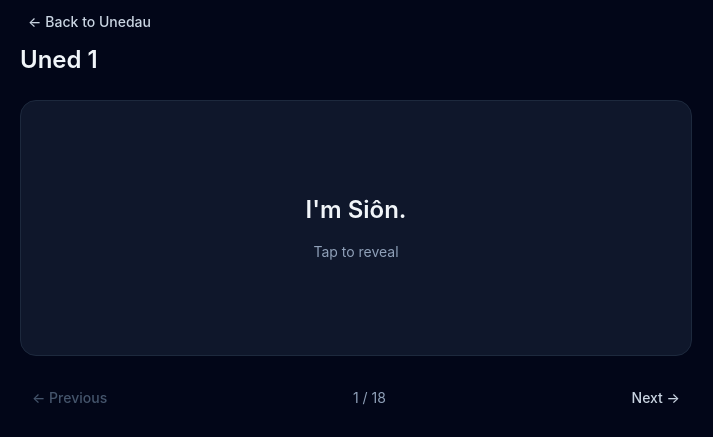
Test: Next moves to the next card and resets reveal; Previous moves back
The width and height of the screenshot is (713, 437).
Click the button "I'm Siôn. Tap to reveal". click: (356, 228)
box: [20, 100, 692, 356]
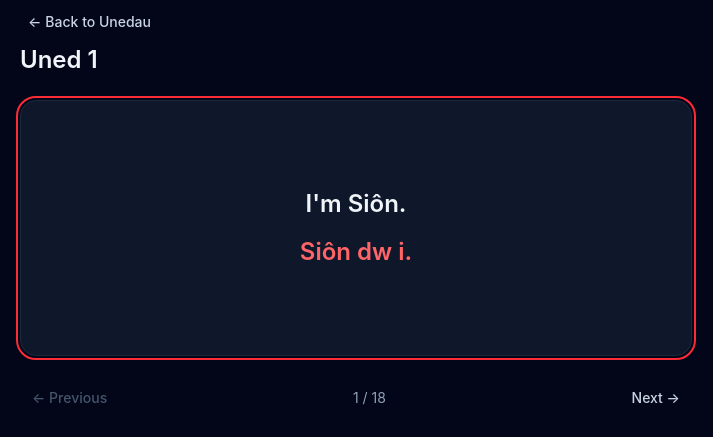
Click the button "Next →". click: (656, 398)
box: [620, 380, 692, 416]
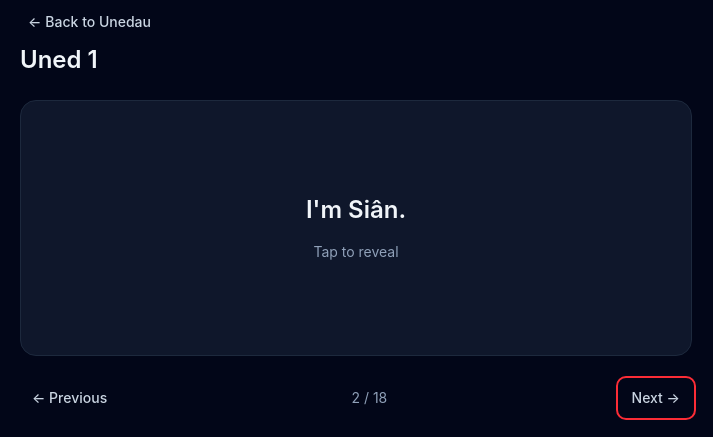
Now the text "I'm Siân." is shown, box [306, 194, 406, 226]
Click the button "I'm Siân. Tap to reveal". click: (356, 228)
box: [20, 100, 692, 356]
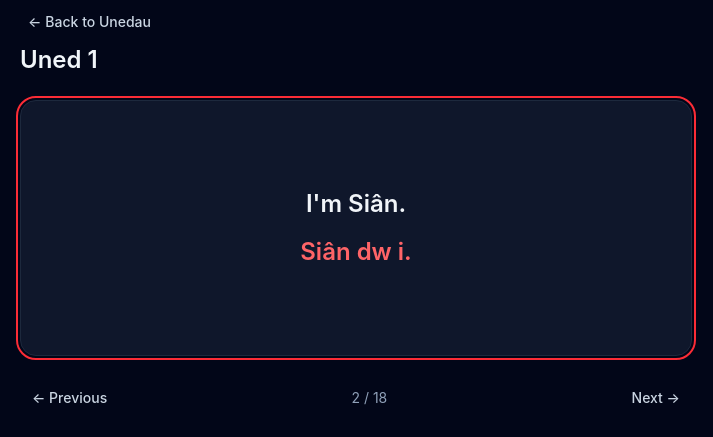
Click the button "← Previous". click: (70, 398)
box: [20, 380, 119, 416]
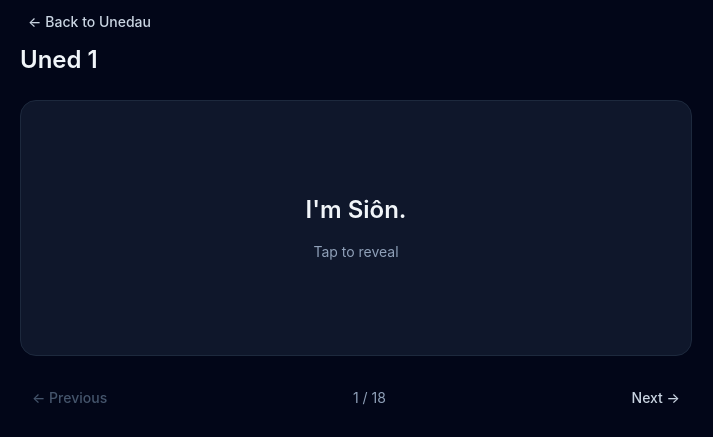
Expected: the button "I'm Siôn. Tap to reveal" is shown, [20, 100, 692, 356]
Now the text "I'm Siôn." is shown, box [306, 194, 406, 226]
